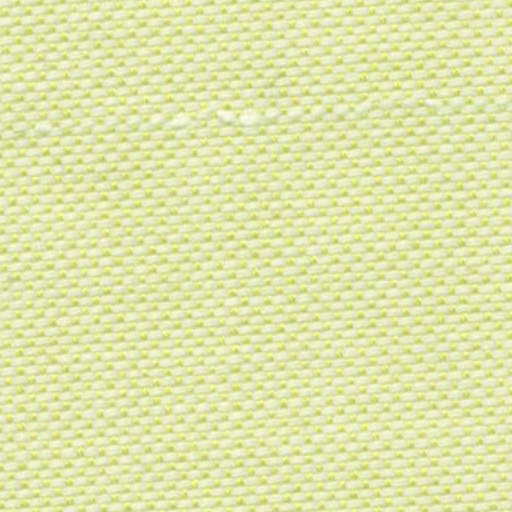TuoSha: (38, 83, 473, 156)
